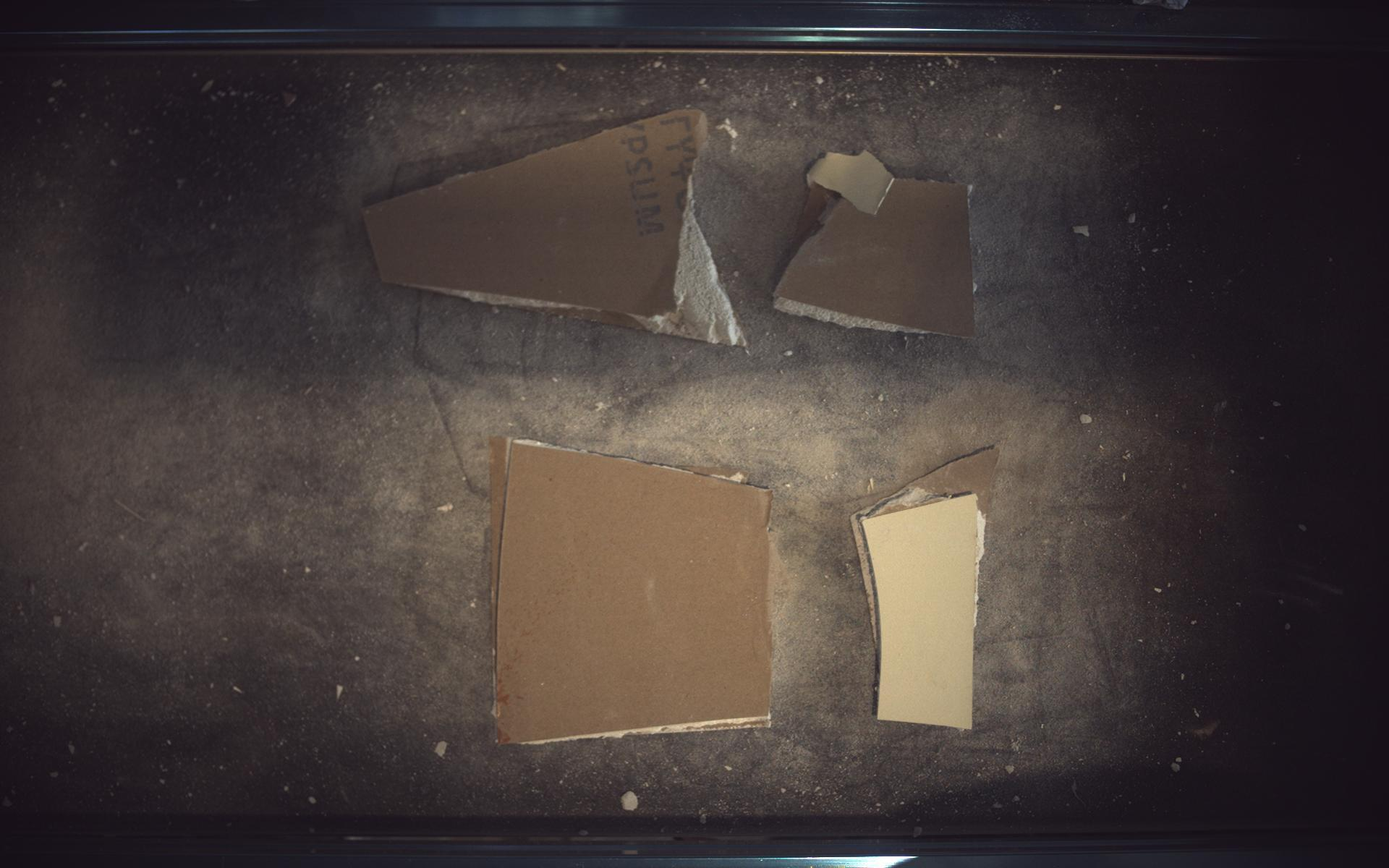gypsum_board: (364, 109, 747, 345), (491, 437, 773, 745), (853, 447, 1001, 731), (776, 150, 977, 336)
